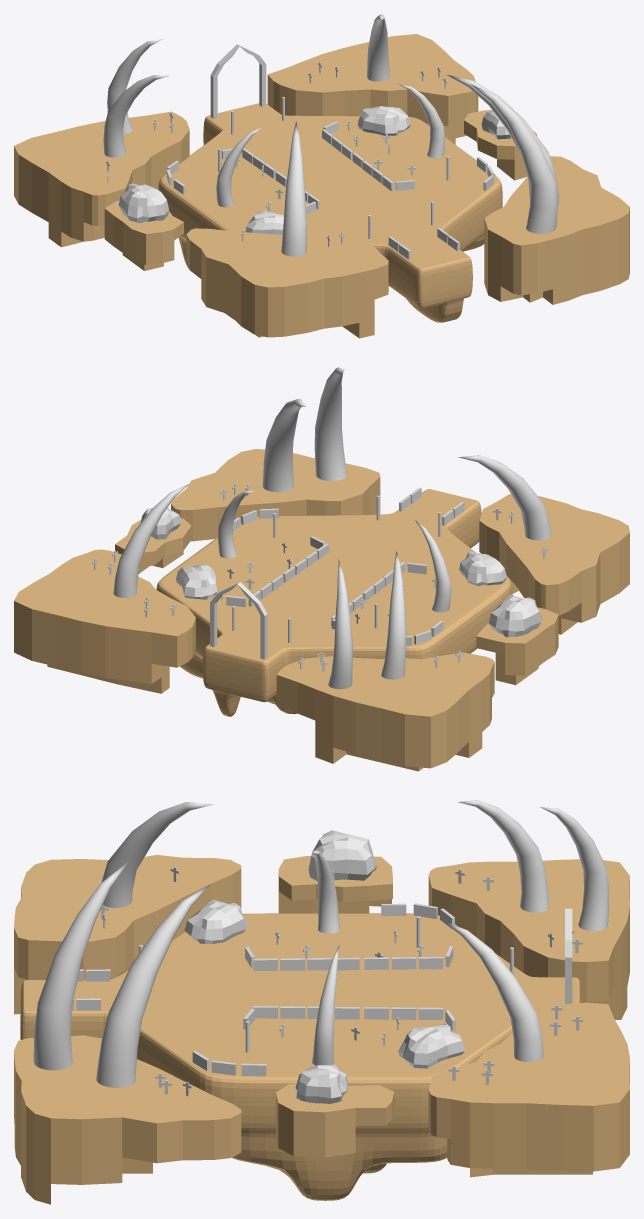
File: Sala4.fbx
The picture shows the model from 3 angles, top to bottom: view 1: azimuth 30°, elevation 25°; view 2: azimuth 150°, elevation 25°; view 3: azimuth 270°, elevation 25°; orthographic projection. The views are drawn at different scales.
Parts seen in each view (by area): view 1: Base 3-4, Cube.150, Cube.149, Cube.151, Cube.148, Hueso Grande.050, Cube.153, Hueso Grande.042, Cube.152, Hueso Grande.039, Cube.154, Cube.168 (+8 smaller); view 2: Base 3-4, Cube.151, Cube.148, Cube.150, Cube.149, Cube.153, Hueso Grande.050, Hueso Grande.041, Hueso Grande.042, Hueso Grande.040, Hueso Grande.039, Hueso Grande.046 (+8 smaller); view 3: Base 3-4, Cube.148, Cube.149, Cube.151, Cube.150, Cube.152, Hueso Grande.041, Hueso Grande.050, Cube.153, Hueso Grande.040, Hueso Grande.042, Hueso Grande.039 (+8 smaller).
Boxes of the visible parts, bbox=[...] form: Base 3-4: bbox=[158, 103, 502, 322]; Cube.150: bbox=[186, 228, 388, 338]; Cube.149: bbox=[484, 156, 629, 304]; Cube.151: bbox=[14, 111, 189, 247]; Cube.148: bbox=[267, 34, 478, 144]; Hueso Grande.050: bbox=[471, 84, 557, 233]; Cube.153: bbox=[104, 200, 183, 270]; Hueso Grande.042: bbox=[281, 121, 306, 256]; Cube.152: bbox=[464, 110, 536, 180]; Hueso Grande.039: bbox=[103, 75, 169, 157]; Cube.154: bbox=[118, 183, 168, 223]; Cube.168: bbox=[357, 106, 410, 135]; Base 3-4: bbox=[156, 489, 512, 716]; Cube.151: bbox=[276, 652, 494, 771]; Cube.148: bbox=[14, 549, 195, 693]; Cube.150: bbox=[479, 494, 629, 634]; Cube.149: bbox=[171, 449, 380, 541]; Cube.153: bbox=[476, 607, 558, 685]; Hueso Grande.050: bbox=[314, 367, 347, 481]; Hueso Grande.041: bbox=[262, 399, 305, 492]; Hueso Grande.042: bbox=[458, 455, 551, 540]; Hueso Grande.040: bbox=[113, 483, 189, 597]; Hueso Grande.039: bbox=[381, 551, 406, 679]; Hueso Grande.046: bbox=[328, 559, 352, 689]; Base 3-4: bbox=[20, 913, 581, 1200]; Cube.148: bbox=[428, 1002, 629, 1177]; Cube.149: bbox=[14, 1035, 241, 1204]; Cube.151: bbox=[428, 859, 629, 1019]; Cube.150: bbox=[14, 854, 241, 1014]; Cube.152: bbox=[276, 1083, 394, 1157]; Hueso Grande.041: bbox=[96, 884, 210, 1087]; Hueso Grande.050: bbox=[33, 861, 128, 1070]; Cube.153: bbox=[278, 856, 392, 913]; Hueso Grande.040: bbox=[441, 920, 543, 1061]; Hueso Grande.042: bbox=[101, 802, 213, 907]; Hueso Grande.039: bbox=[458, 800, 549, 912].
Bounding box in the file's own units: 16195 × 16485 × 9494.
